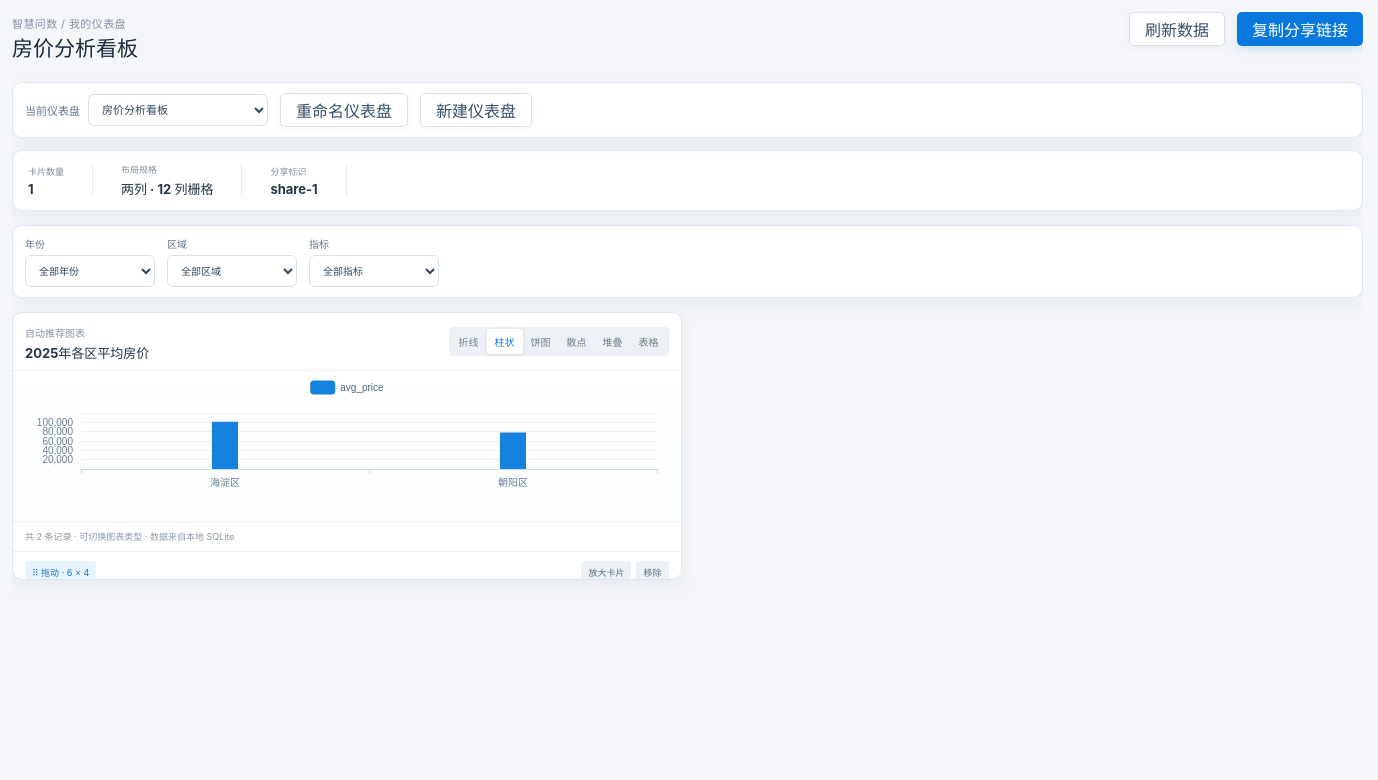
Test case: does not rename a dashboard to an existing dashboard name
The image size is (1378, 780).
Expected: the heading "房价分析看板" is shown, [12, 36, 138, 61]
Click the button "重命名仪表盘" at (344, 110), box [280, 93, 408, 127]
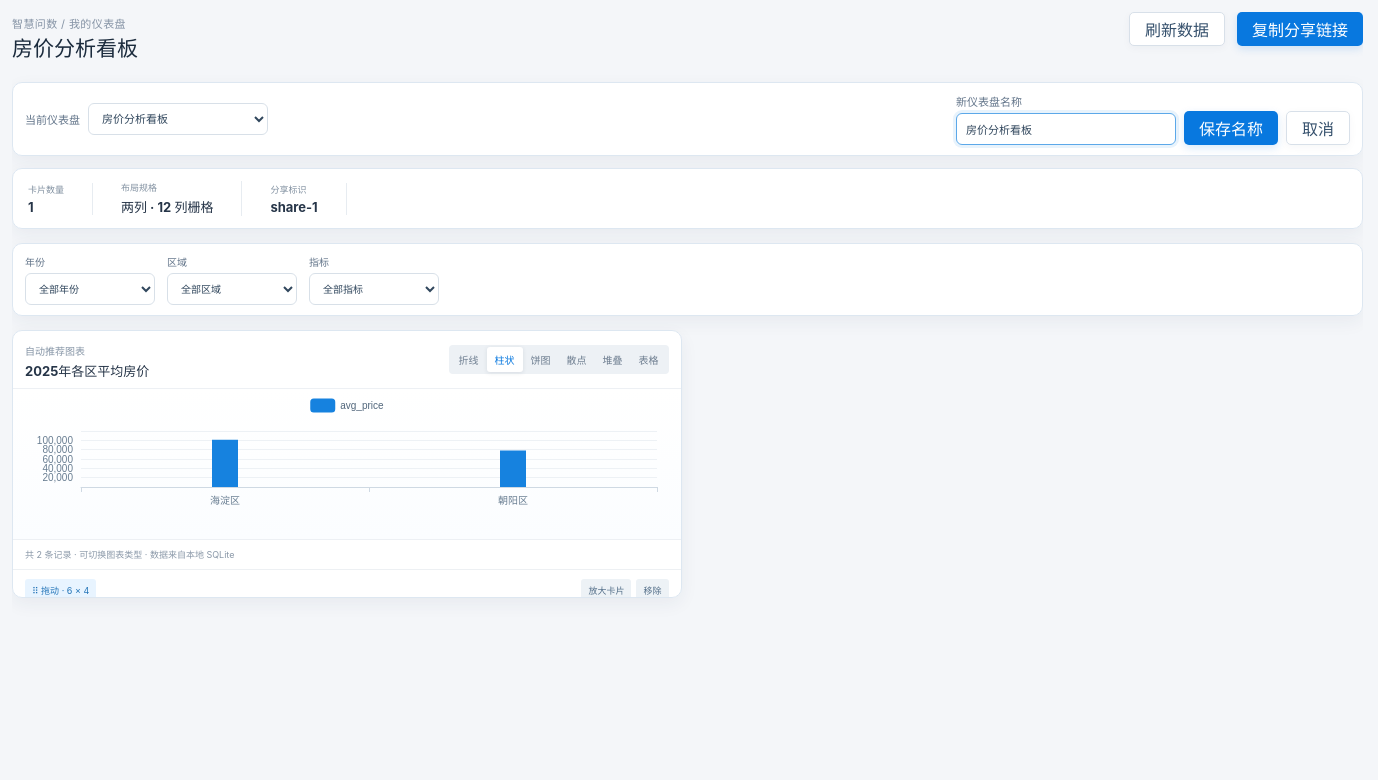
Replace the text in the field labelled "新仪表盘名称" with "成交看板" at (1066, 129), box [956, 113, 1176, 145]
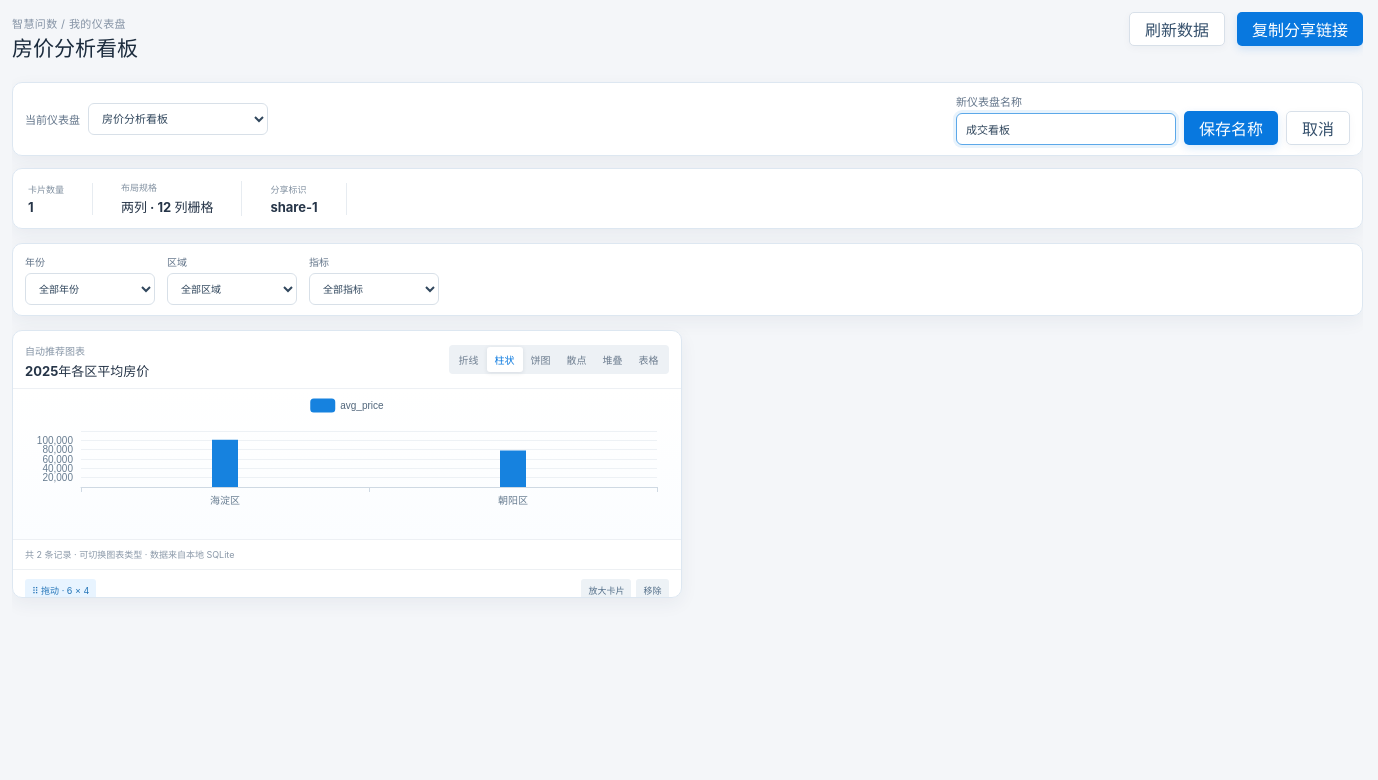
Click the button "保存名称" at (1231, 128), box [1184, 111, 1278, 145]
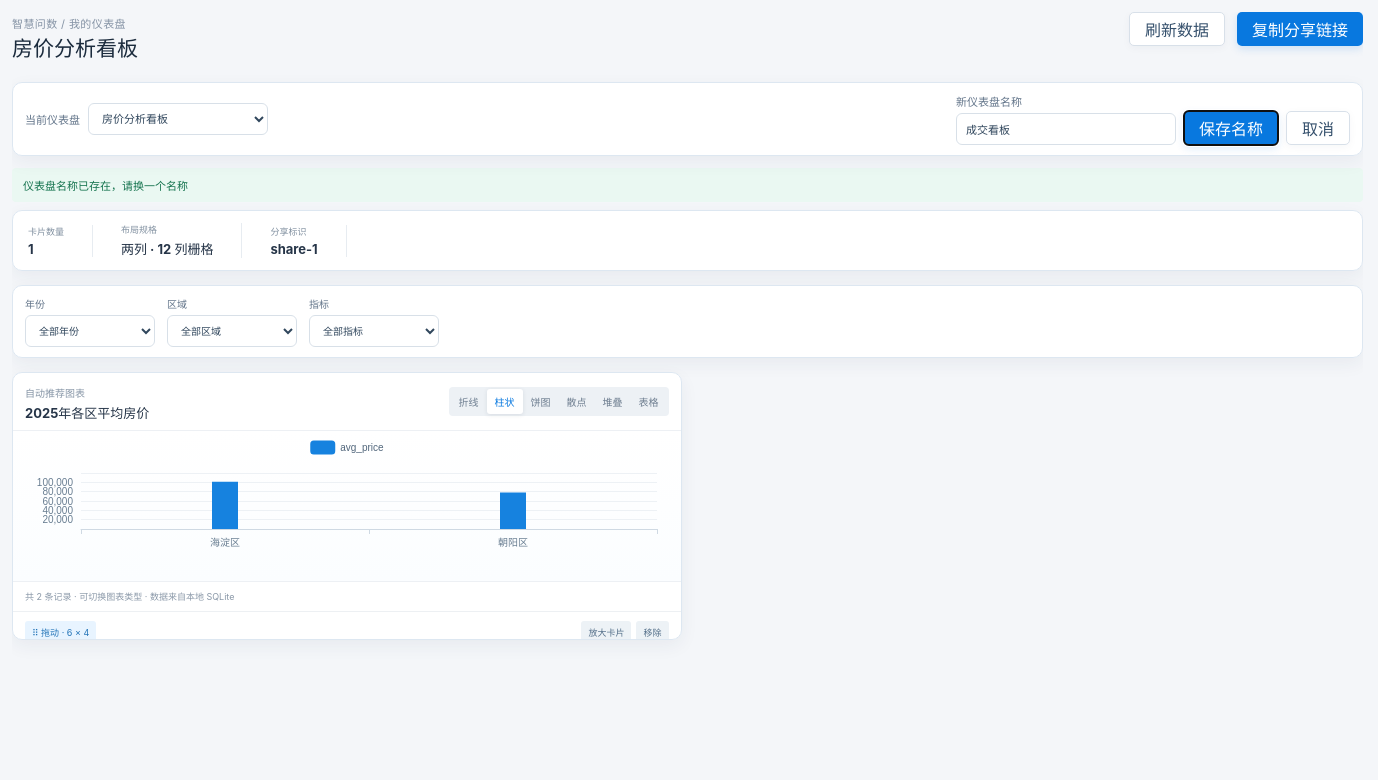
Now the text "仪表盘名称已存在，请换一个名称" is shown, box [12, 168, 1363, 202]
